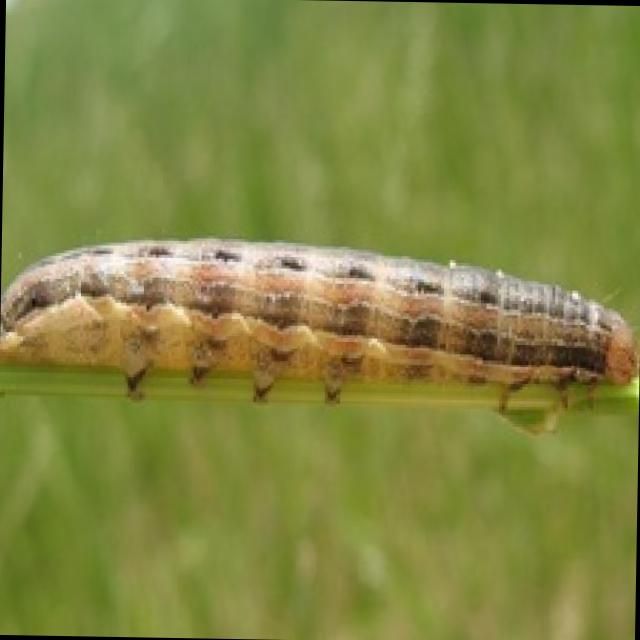armyworm: (1, 192, 640, 440)
